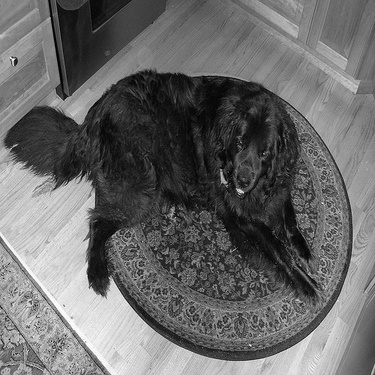dog: (1, 49, 338, 319)
